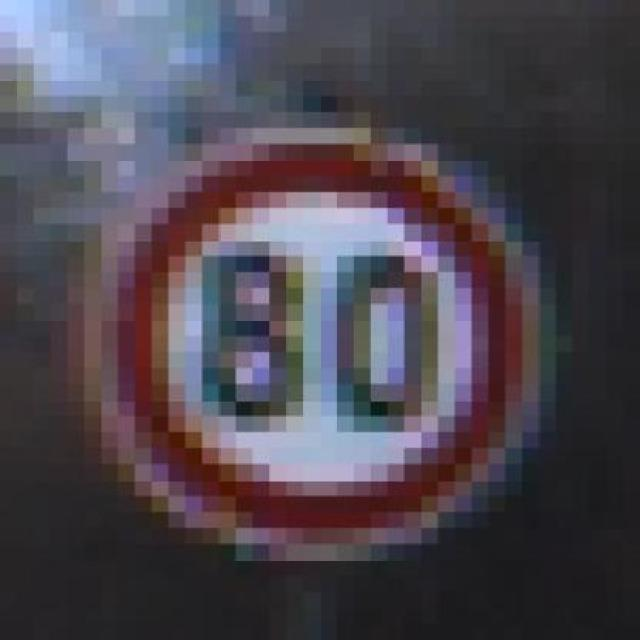forb_speed_over_80: (122, 151, 520, 542)
